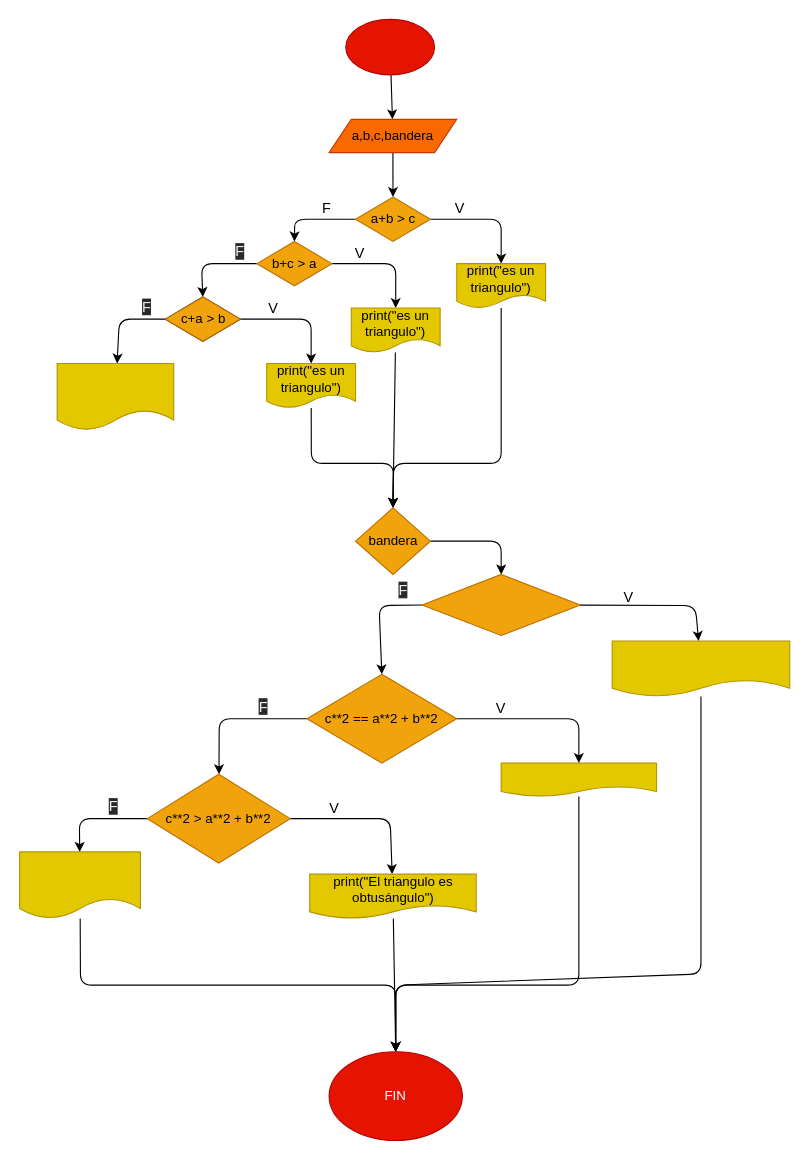
The diagram is 809 pixels wide and 1160 high, and some of its shapes have lost their labels. The shapes that lost their labels are listed below. From the top down, each one's box as (x1, y1, x2, y2) in pixels, then its label:
(345, 18, 435, 75): INICIO
(56, 362, 174, 430): print("no se puede formar un triangulo")
(421, 573, 580, 635): c**2 < a**2 + b**2
(611, 640, 790, 697): print("El triangulo es acutángulo")
(500, 762, 657, 796): print("El triangulo es rectángulo")
(19, 851, 140, 919): print("El triangulo no tiene ninguno de estos nombres")
